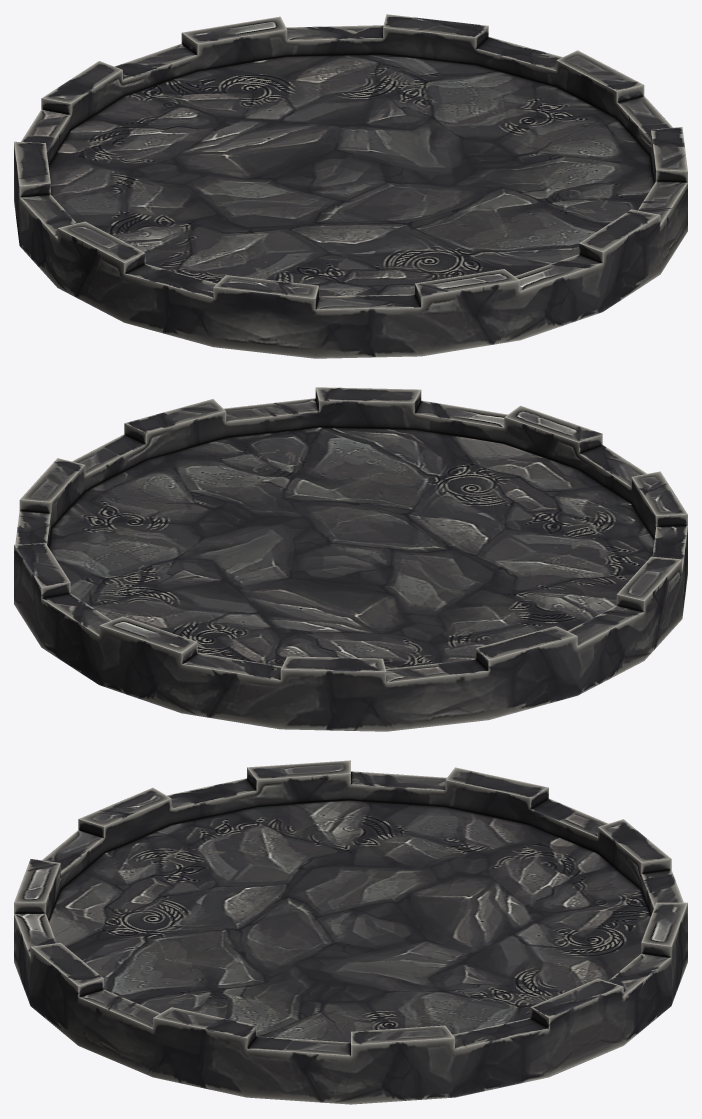
File: Pied4F.fbx
The picture shows the model from 3 angles, top to bottom: view 1: azimuth 30°, elevation 25°; view 2: azimuth 150°, elevation 25°; view 3: azimuth 270°, elevation 25°; orthographic projection.
Visible parts, largest first — view 1: pied4_LOD0; view 2: pied4_LOD0; view 3: pied4_LOD0.
Part boxes in pixels (x1,y1,x2,y2): pied4_LOD0: [14, 14, 687, 358]; pied4_LOD0: [14, 387, 687, 731]; pied4_LOD0: [14, 760, 687, 1104].
Size of what is drawn, in the model's own units: 690 by 67.01 by 690.
